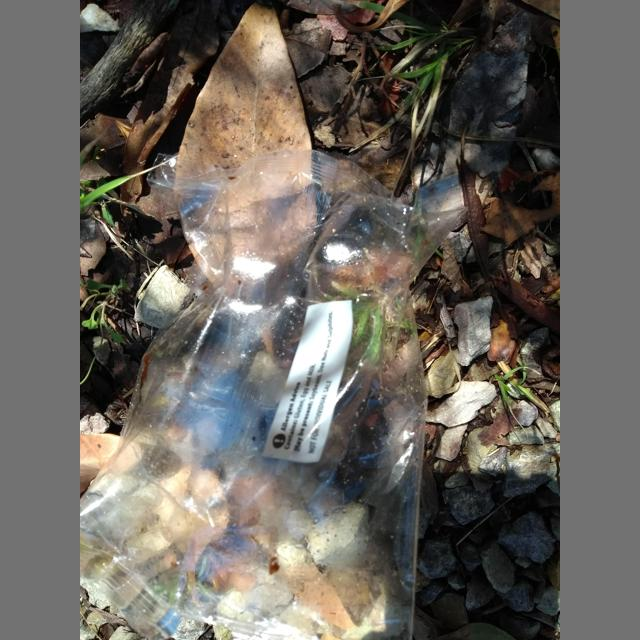litter: (80, 149, 467, 640)
